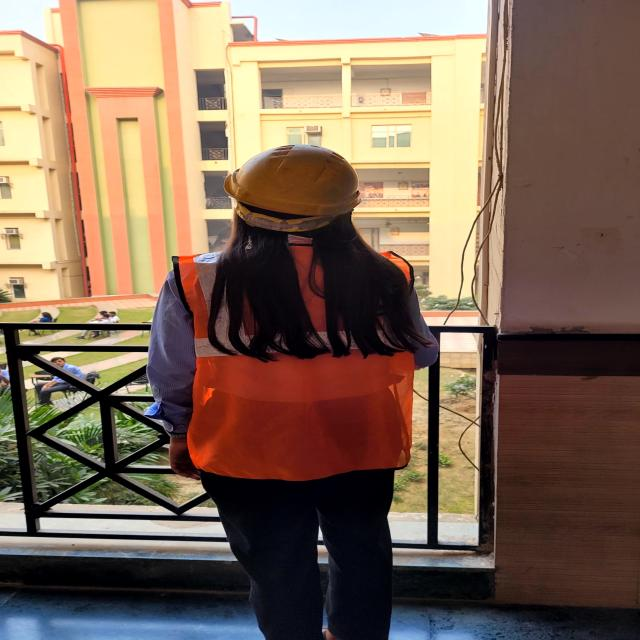safe: (142, 141, 438, 640)
